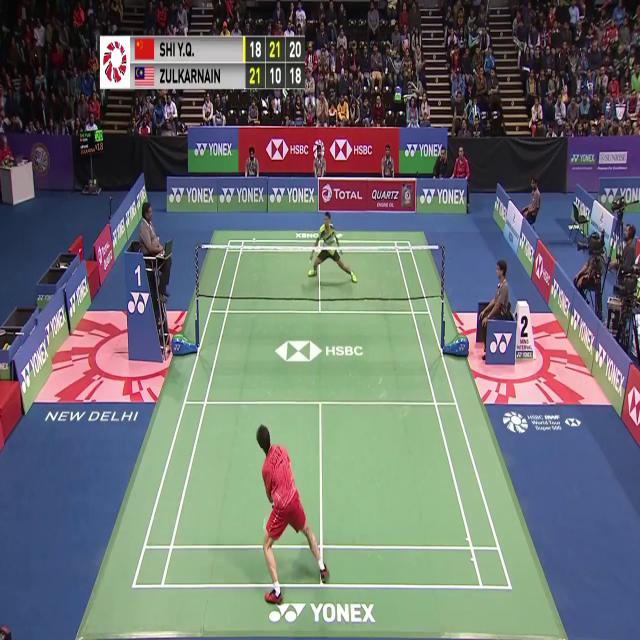Shuttlecock: (251, 234, 257, 246)
